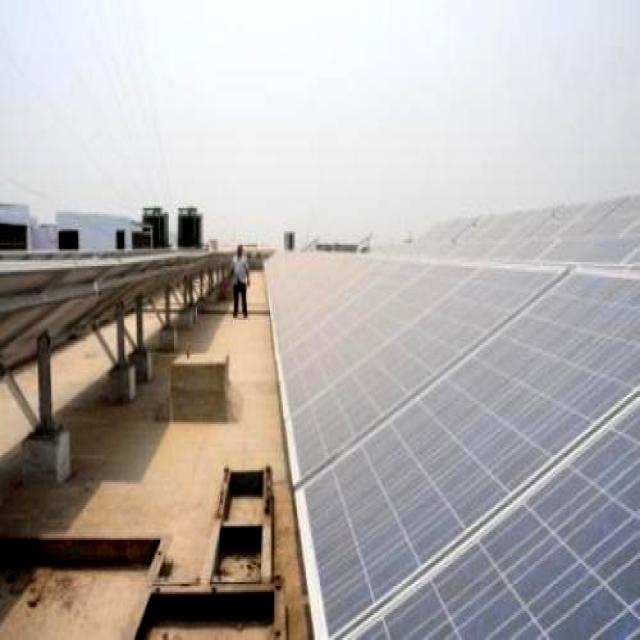dust: (356, 448, 610, 594), (293, 255, 481, 410), (509, 298, 632, 439)
